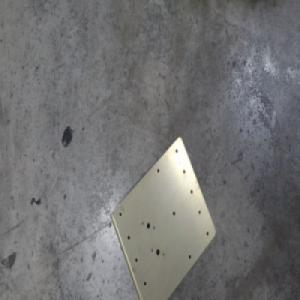MetalSheet: (108, 134, 216, 300)
